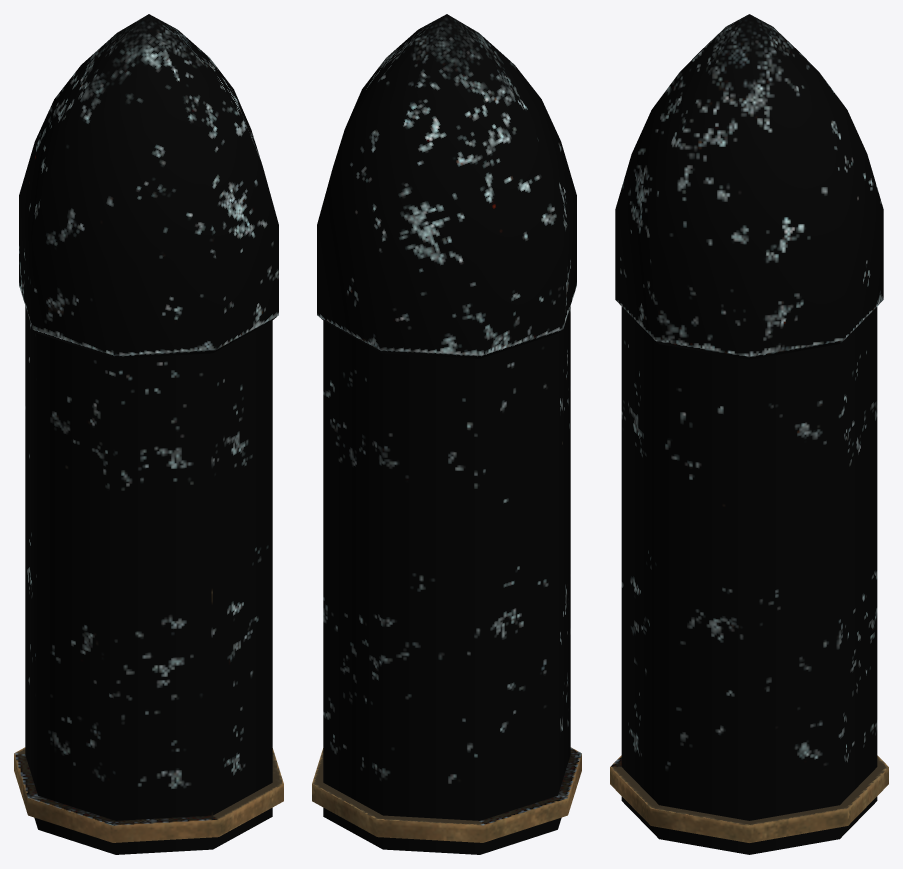
Rendered from Big_Bullet.fbx.
The picture shows the model from 3 angles, left to right: view 1: azimuth 30°, elevation 25°; view 2: azimuth 150°, elevation 25°; view 3: azimuth 270°, elevation 25°; orthographic projection.
Visible parts, largest first — view 1: Big_Bullet; view 2: Big_Bullet; view 3: Big_Bullet.
Part boxes in pixels (left/top/right/bottom): Big_Bullet: left=14, top=14, right=283, bottom=854; Big_Bullet: left=312, top=14, right=581, bottom=854; Big_Bullet: left=610, top=14, right=888, bottom=854.
Size of the model in its own units: 51.91 by 162 by 51.91.
1 material, 1 textured.
